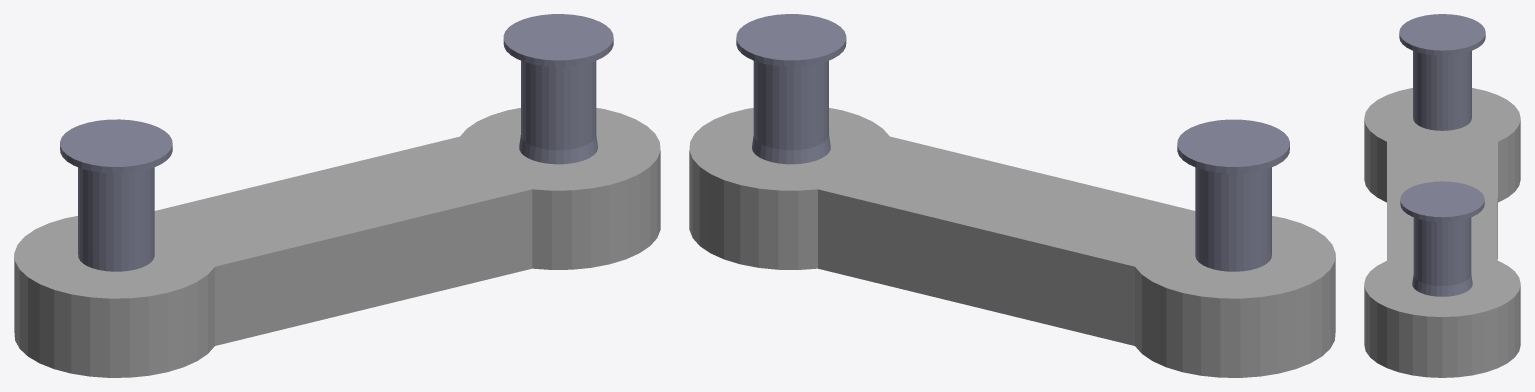
Rendered from felislinkF.dae.
3 views of the same model, side by side, from view 1: azimuth 30°, elevation 25°; view 2: azimuth 150°, elevation 25°; view 3: azimuth 270°, elevation 25° (orthographic). The views are drawn at different scales.
Parts seen in each view (by area): view 1: LinkF; view 2: LinkF; view 3: LinkF.
Part boxes in pixels (x1,y1,x2,y2): LinkF: (14, 14, 660, 377); LinkF: (689, 14, 1335, 377); LinkF: (1364, 14, 1520, 377).
Size of the model in its own units: 0.049 by 0.014 by 0.0155.
